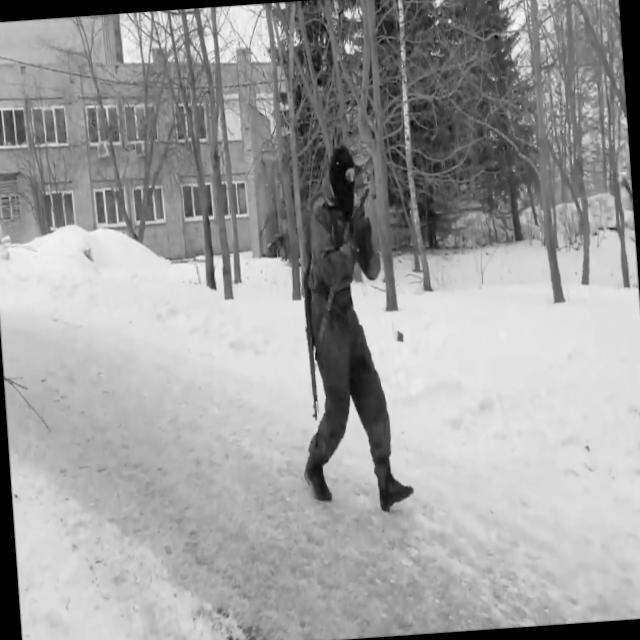gun: (294, 216, 322, 422), (349, 184, 372, 226)
person with a gun: (281, 142, 416, 518)
